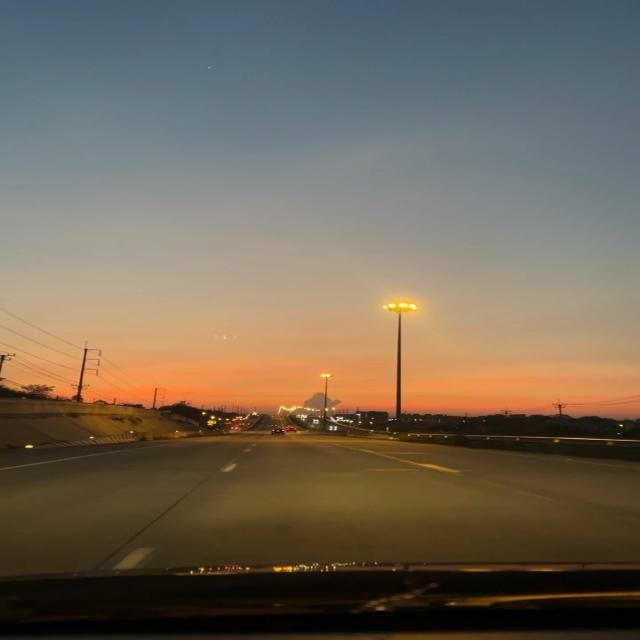Poth-hole: (134, 450, 526, 540)
